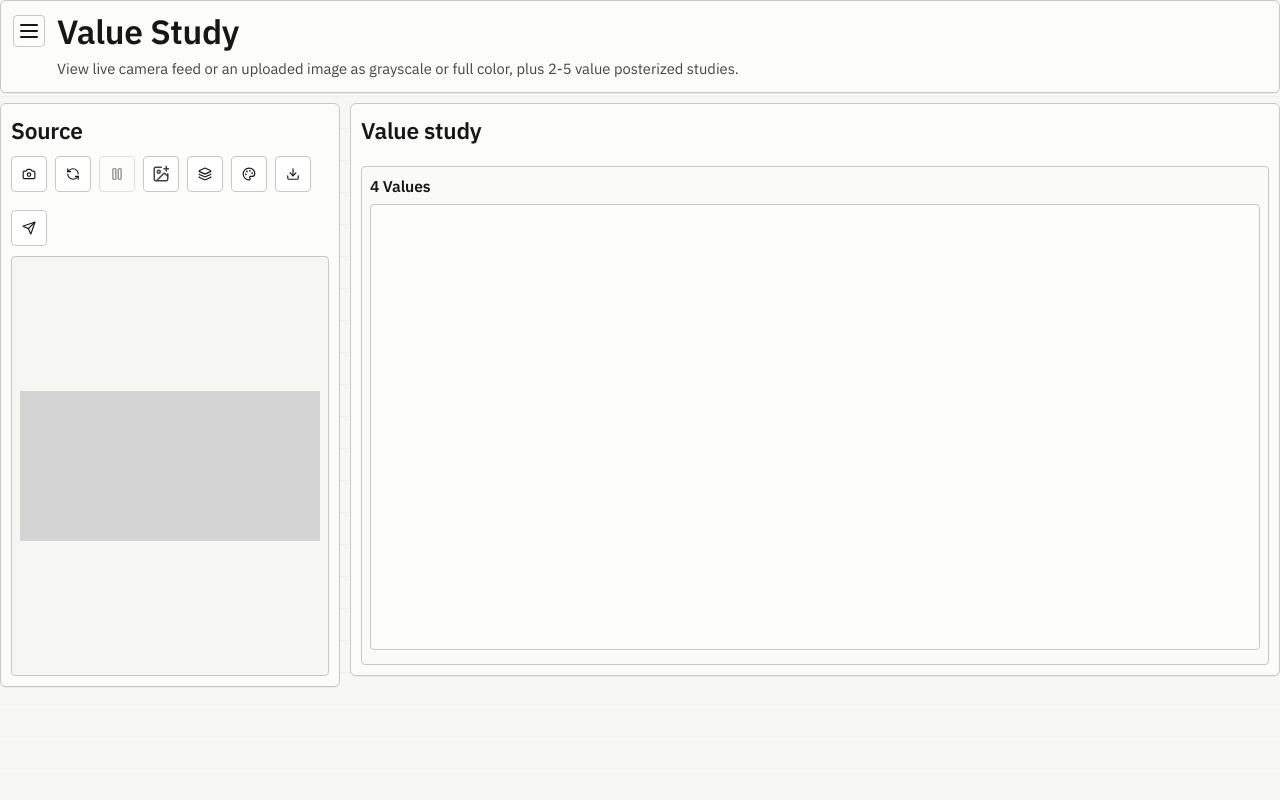
PosterizeViewerPage › shows send failures as an alert toast
Click the button named "send to reference board": [29, 228] box [11,210,47,246]
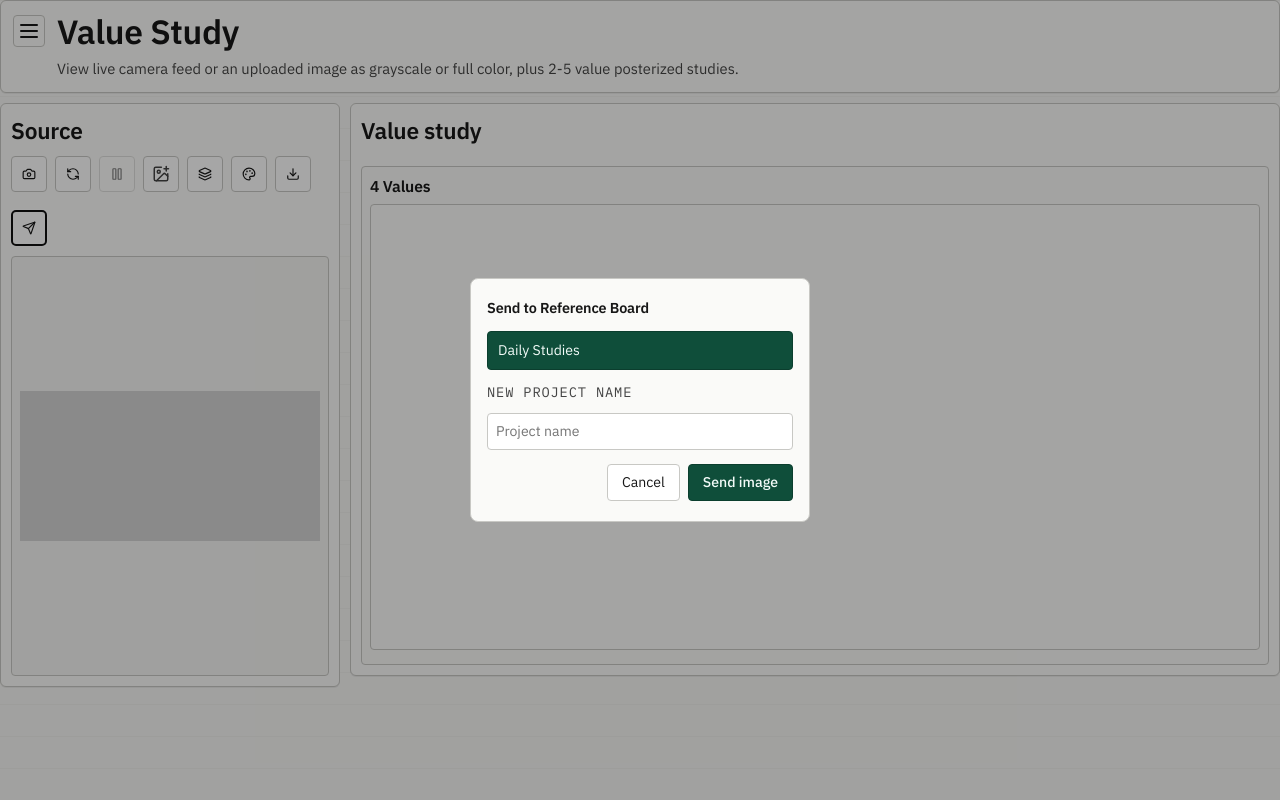
Click the button "Send image": [740, 482] box [688,464,793,501]
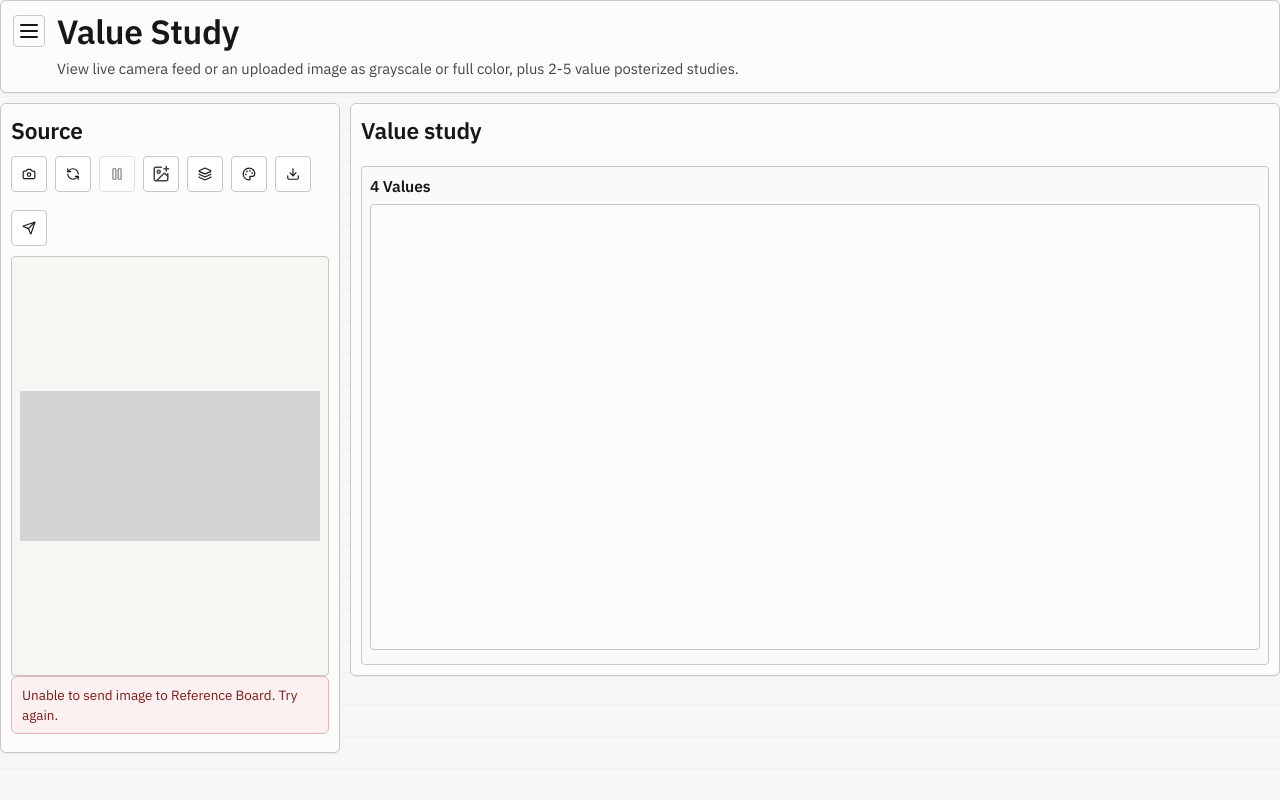
Now the message shows "Unable to send image to Reference Board", box [22,686,297,724]
